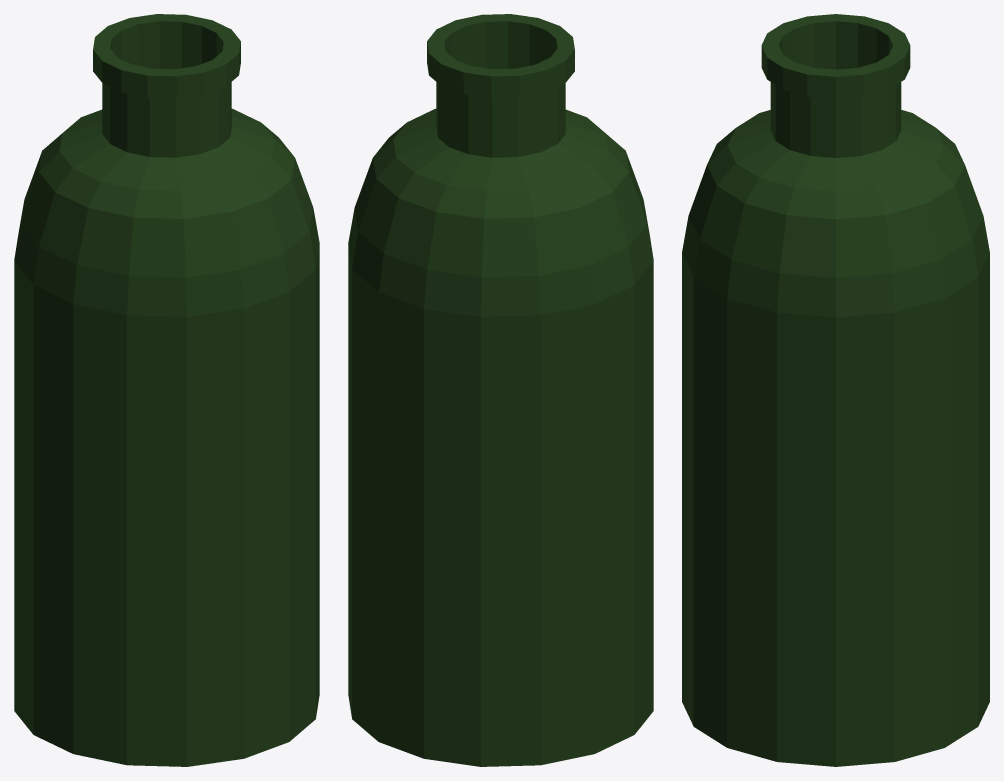
The model's file is BotellaAR.fbx.
The picture shows the model from 3 angles, left to right: view 1: azimuth 30°, elevation 25°; view 2: azimuth 150°, elevation 25°; view 3: azimuth 270°, elevation 25°; orthographic projection.
Parts seen in each view (by area): view 1: Cylinder.001; view 2: Cylinder.001; view 3: Cylinder.001.
Part boxes in pixels (bbox=[...]): Cylinder.001: bbox=[14, 14, 319, 766]; Cylinder.001: bbox=[348, 14, 653, 766]; Cylinder.001: bbox=[682, 14, 989, 766].
Bounding box in the file's own units: 4.57 × 10.74 × 4.57.
